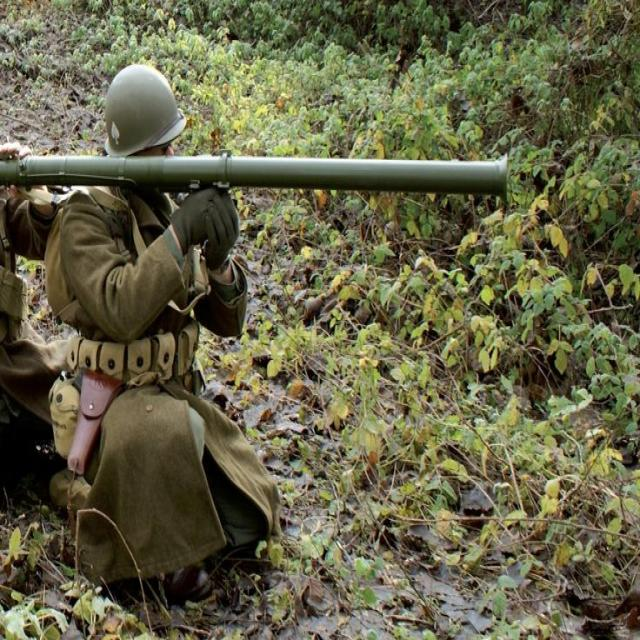bazooka: (1, 138, 561, 224)
